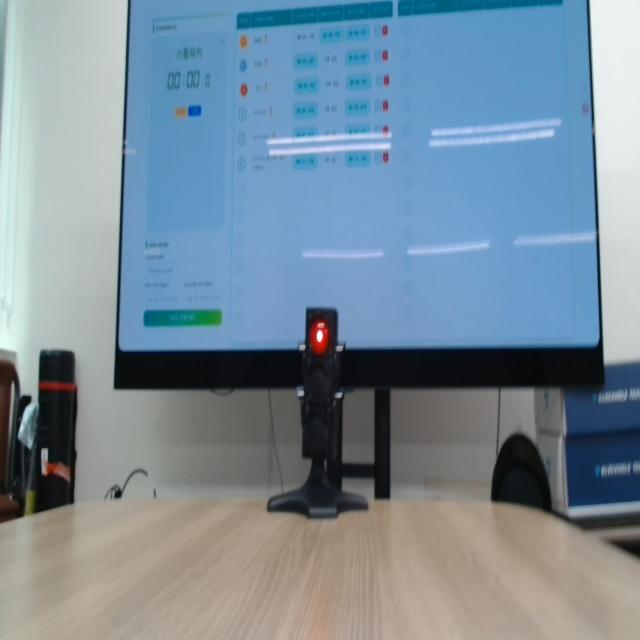red_light: (310, 320, 330, 356)
